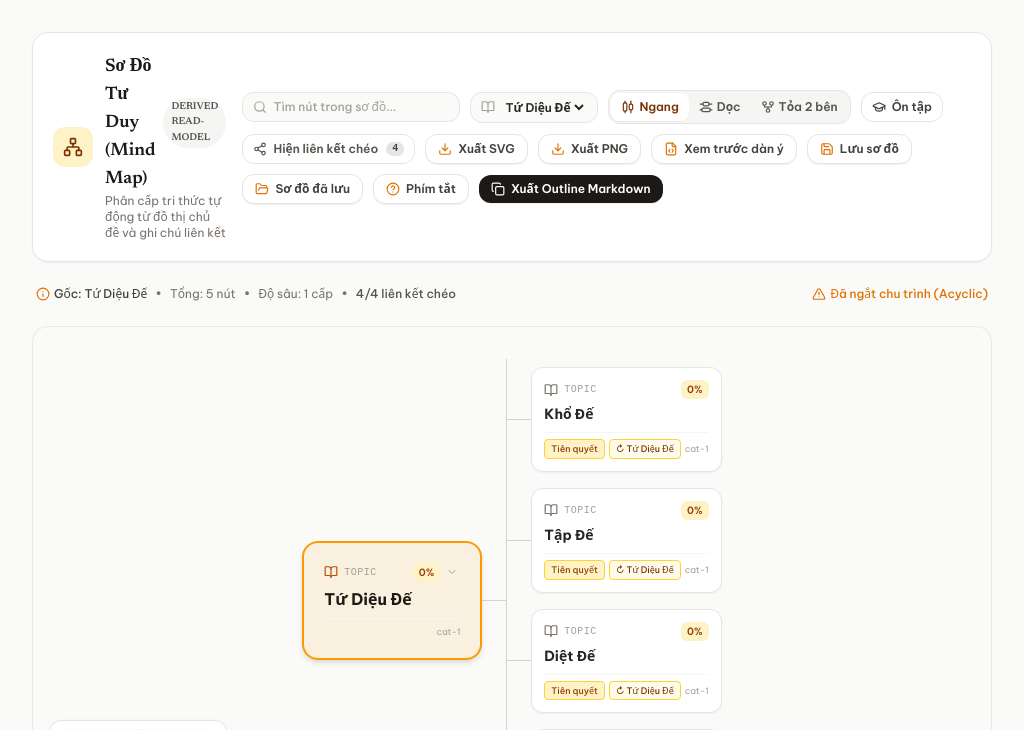
Scenario: Mind Map Phase A: Edge-Type Semantic Filter Suite › Scenario 1: Filter bar is hidden when showCrossLinks is false, and visible when showCrossLinks is true
This screenshot has width=1024, height=730.
Note: Toggle cross-links on
Click the button titled "Bật/tắt hiển thị liên kết chéo trên sơ đồ" at (329, 149), box [242,134,415,164]
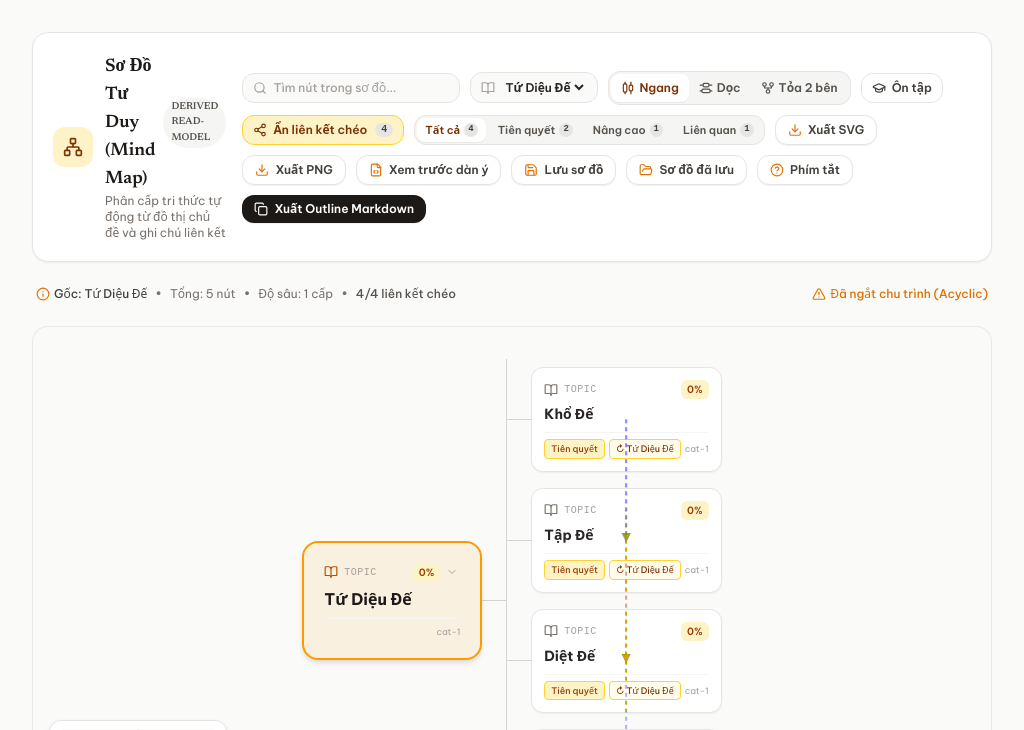
Result: the element with test id "mindmap-edge-filter-bar" is shown at [414,115,765,145]
Click the button titled "Bật/tắt hiển thị liên kết chéo trên sơ đồ" at (323, 130), box [242,115,404,145]
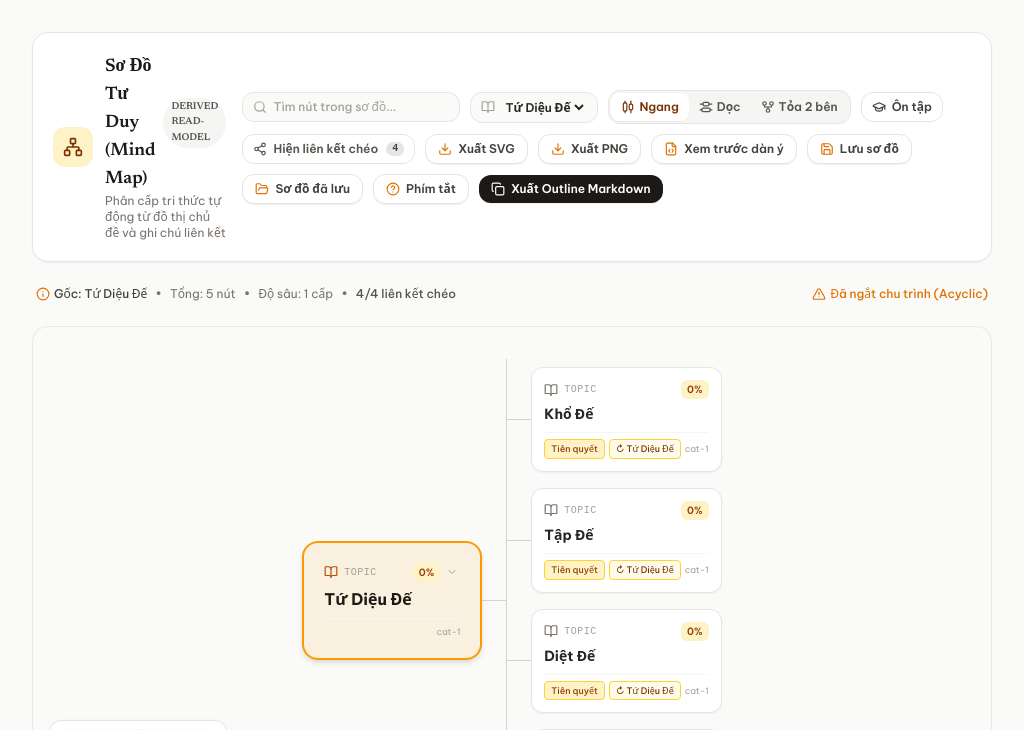
Result: the element with test id "mindmap-edge-filter-bar" is gone
